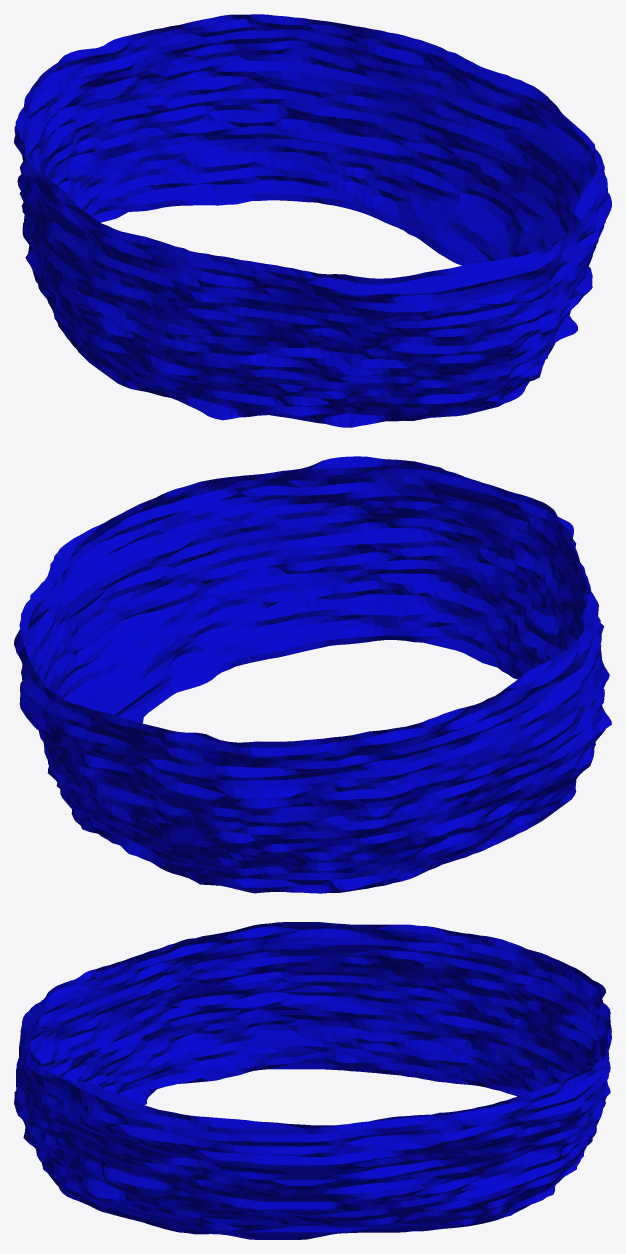
Rendered from mito_outer.obj.
3 views of the same model, one above another, from view 1: azimuth 30°, elevation 25°; view 2: azimuth 150°, elevation 25°; view 3: azimuth 270°, elevation 25° (orthographic). The views are drawn at different scales.
Visible parts, largest first — view 1: Mesh_Mesh.100; view 2: Mesh_Mesh.100; view 3: Mesh_Mesh.100.
Boxes of the visible parts, x1,y1,x2,y2 form: Mesh_Mesh.100: (14,14,611,427); Mesh_Mesh.100: (14,456,611,893); Mesh_Mesh.100: (14,922,611,1239).
Bounding box in the file's own units: 345 × 108 × 412.
